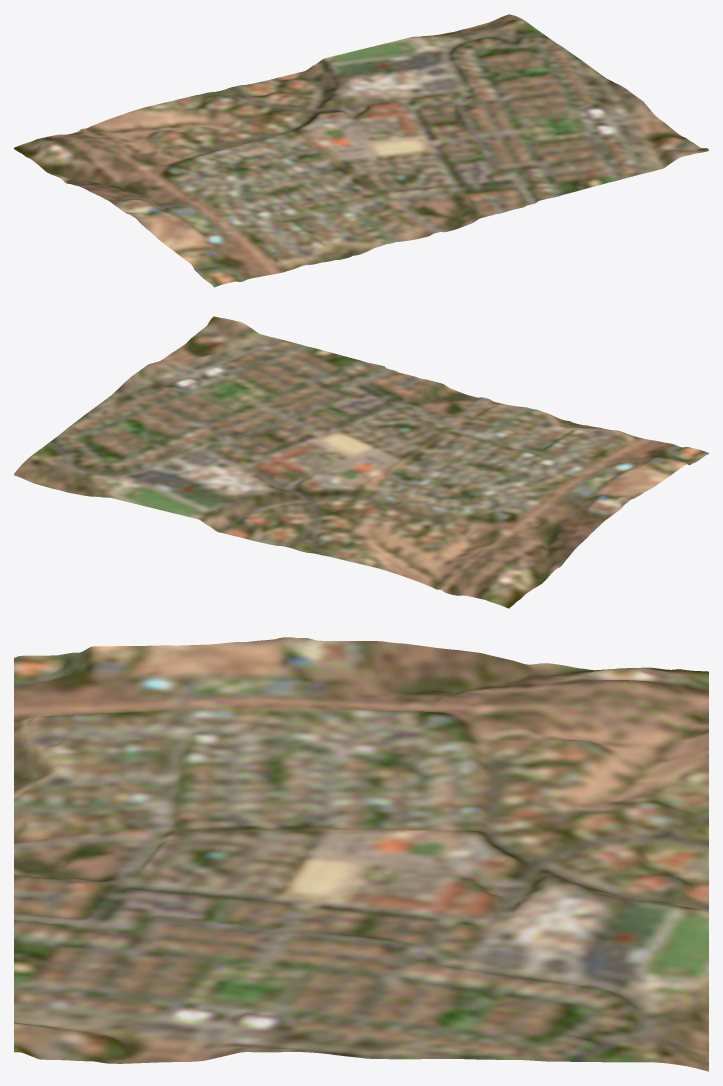
Rendered from terrain_r7_c0.glb.
The picture shows the model from 3 angles, top to bottom: view 1: azimuth 30°, elevation 25°; view 2: azimuth 150°, elevation 25°; view 3: azimuth 270°, elevation 25°; orthographic projection. The views are drawn at different scales.
Parts seen in each view (by area): view 1: terrain_r7_c0_lod0; view 2: terrain_r7_c0_lod0; view 3: terrain_r7_c0_lod0.
Part boxes in pixels (left/top/right/bottom): terrain_r7_c0_lod0: left=14, top=14, right=708, bottom=287; terrain_r7_c0_lod0: left=14, top=316, right=708, bottom=608; terrain_r7_c0_lod0: left=14, top=637, right=708, bottom=1071.
Bounding box in the file's own units: 1125 × 56.51 × 787.
Materials: 1 (1 with a texture image).
